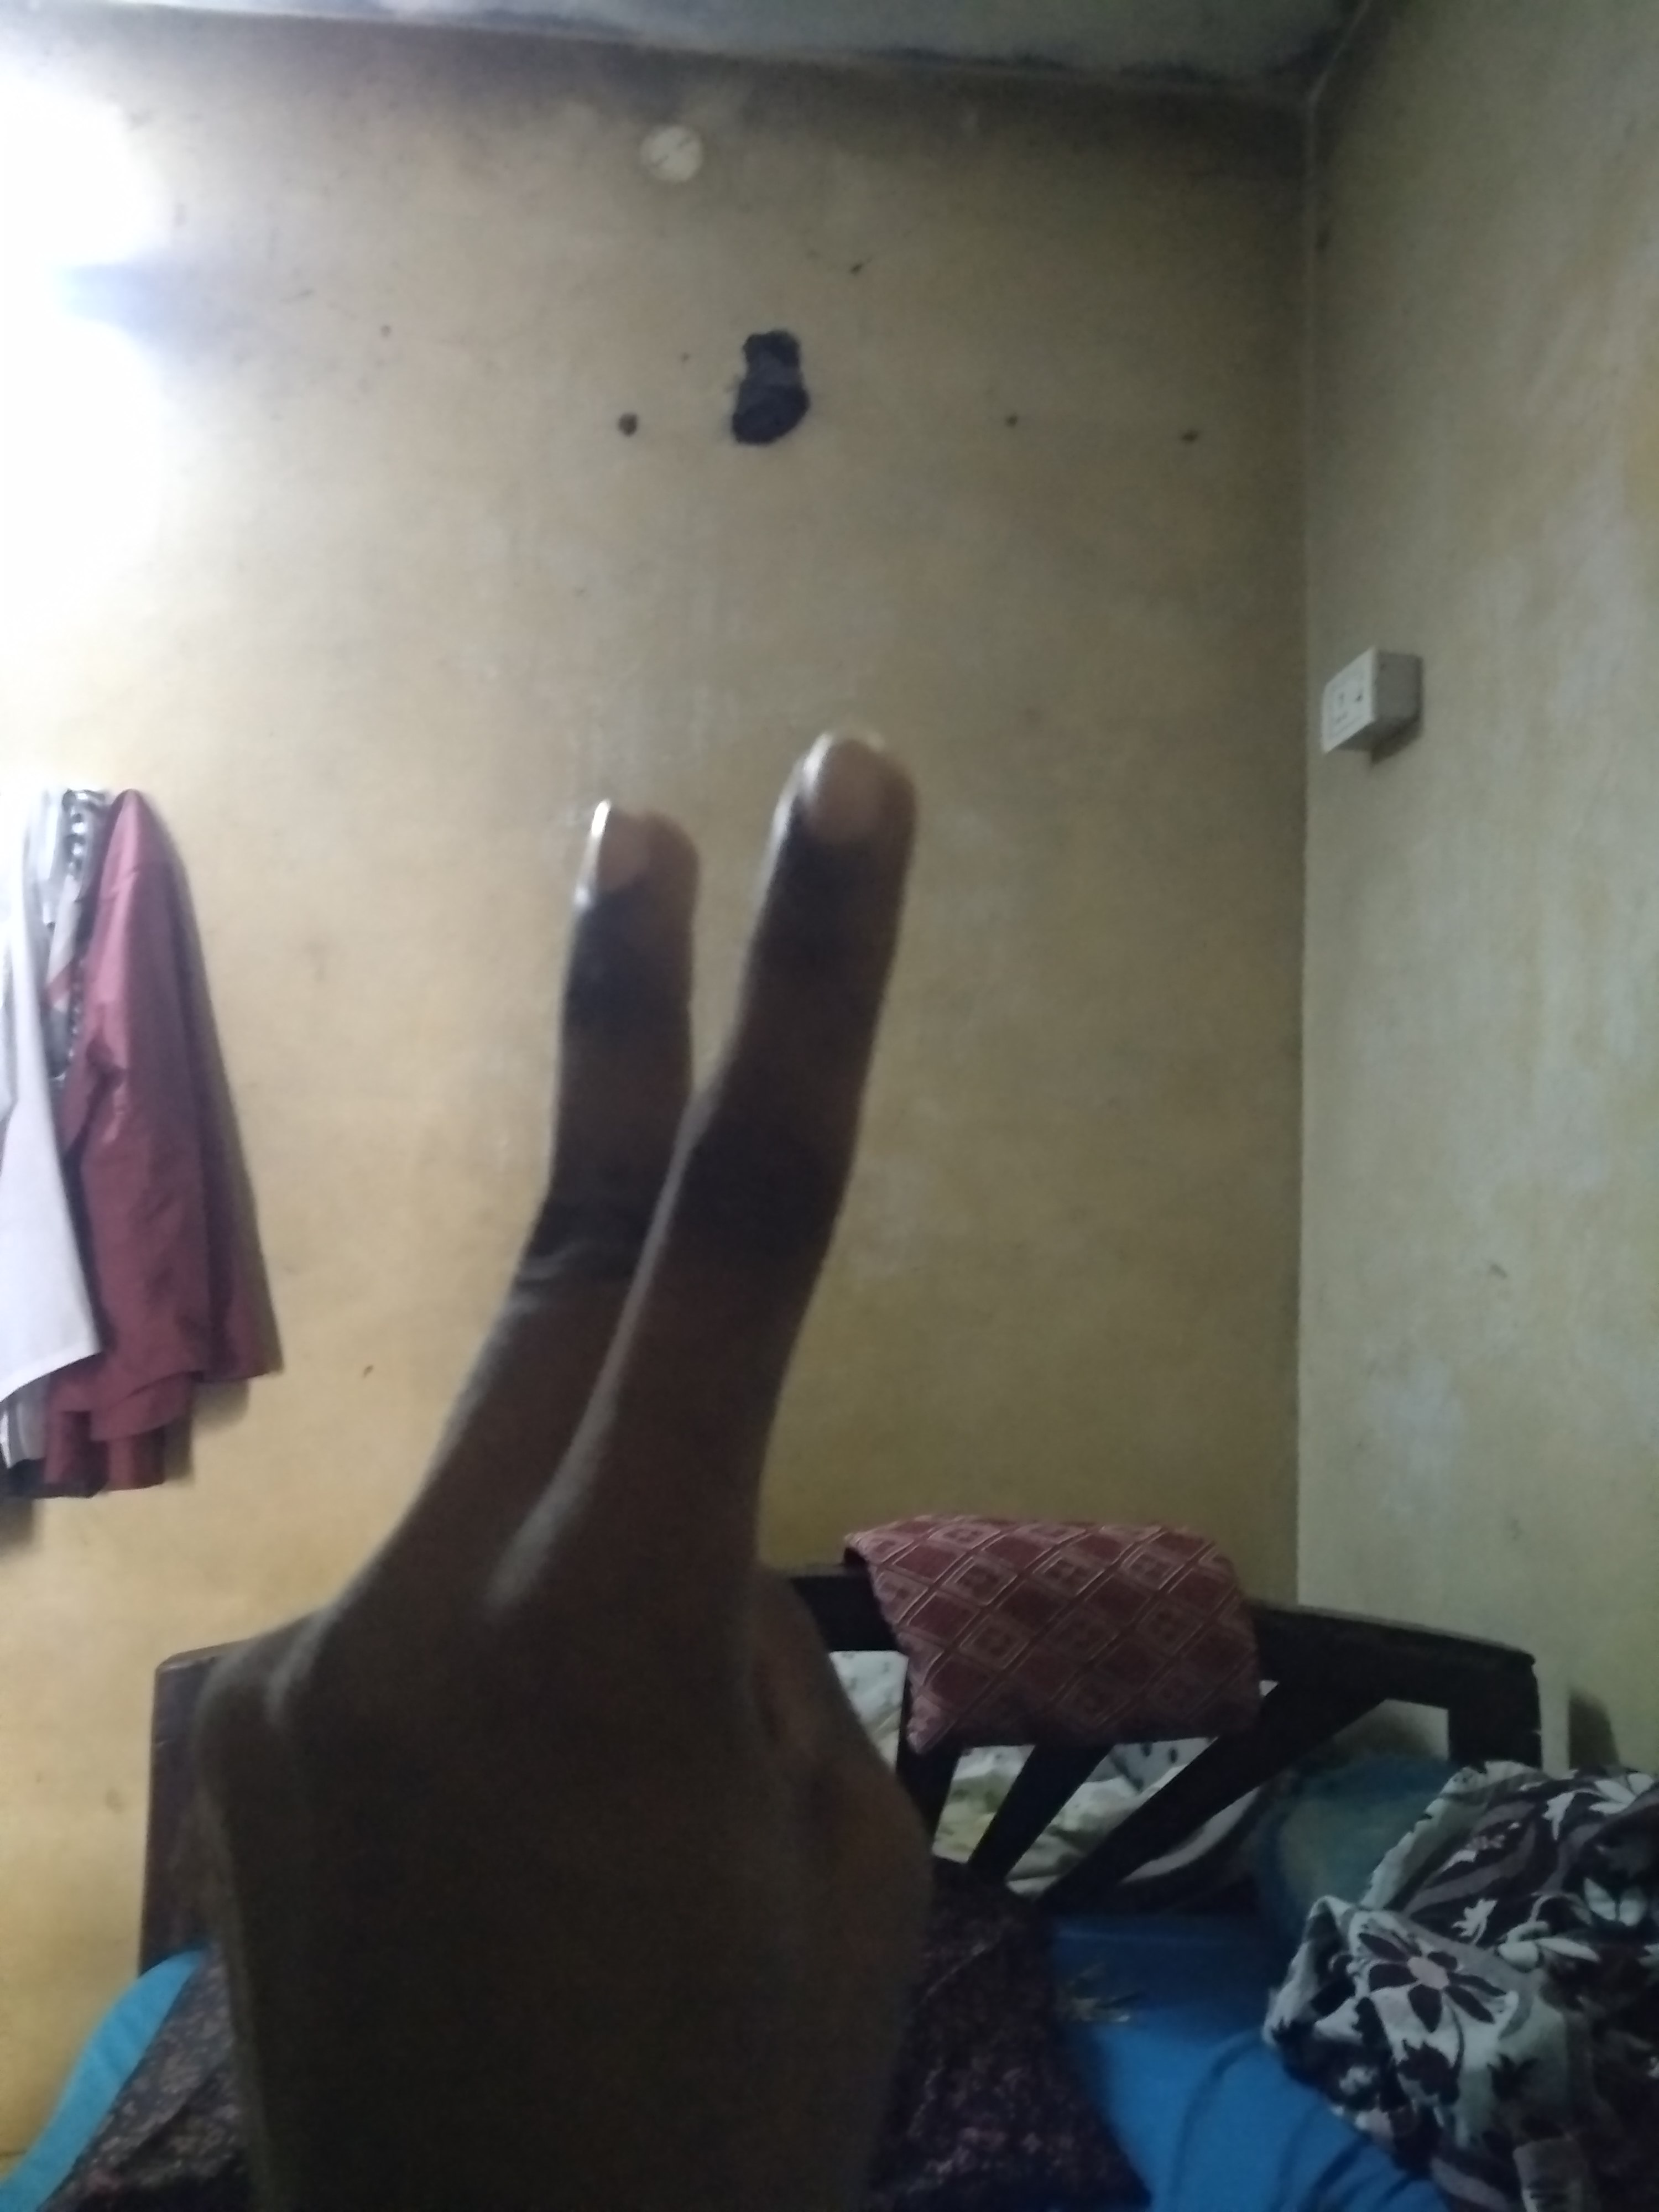two: (434, 721, 509, 909)
